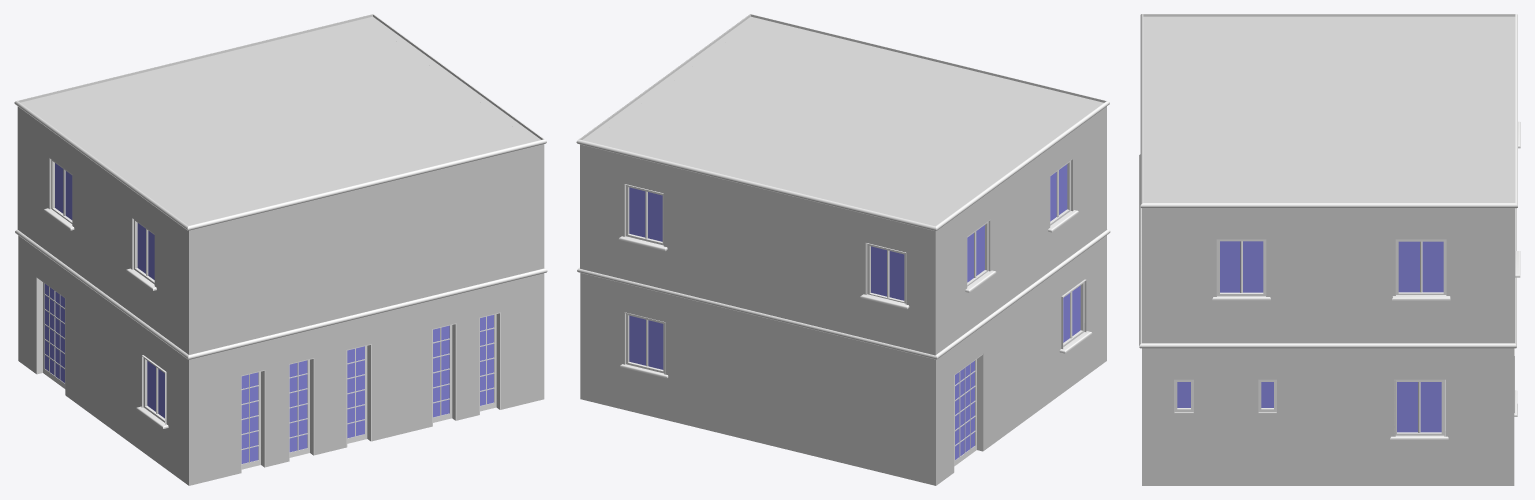
The model's file is HOME_CUBIC_FBX.FBX.
The picture shows the model from 3 angles, left to right: view 1: azimuth 30°, elevation 25°; view 2: azimuth 150°, elevation 25°; view 3: azimuth 270°, elevation 25°; orthographic projection. The views are drawn at different scales.
Parts seen in each view (by area): view 1: Rectangle27, Box11, Rectangle17, Rectangle57, Rectangle12, PivotDoor01, PivotDoor04, PivotDoor03, PivotDoor05, PivotDoor02, PivotDoor06, FixedWindow10 (+2 smaller); view 2: Rectangle27, Rectangle17, Box11, Rectangle57, PivotDoor01, Rectangle12, FixedWindow11, FixedWindow05, FixedWindow04, FixedWindow10, FixedWindow09, FixedWindow08; view 3: Box11, Rectangle27, Rectangle17, Rectangle57, Rectangle12, FixedWindow07, FixedWindow06, FixedWindow12, FixedWindow14, FixedWindow13.
Boxes of the visible parts, x1,y1,x2,y2 form: Rectangle27: (17, 16, 544, 354); Box11: (30, 22, 531, 222); Rectangle17: (18, 235, 544, 485); Rectangle57: (14, 14, 546, 230); Rectangle12: (15, 230, 547, 359); PivotDoor01: (36, 277, 65, 394); PivotDoor04: (346, 344, 371, 447); PivotDoor03: (289, 358, 314, 461); PivotDoor05: (432, 323, 456, 426); PivotDoor02: (241, 370, 265, 473); PivotDoor06: (479, 312, 500, 414); FixedWindow10: (141, 355, 166, 424); Rectangle27: (580, 16, 1106, 355); Rectangle17: (580, 235, 1106, 485); Box11: (592, 21, 1094, 222); Rectangle57: (576, 14, 1109, 230); PivotDoor01: (954, 354, 983, 472); Rectangle12: (577, 229, 1110, 359); FixedWindow11: (624, 312, 665, 374); FixedWindow05: (866, 243, 906, 304); FixedWindow04: (624, 184, 663, 245); FixedWindow10: (1061, 279, 1086, 348); FixedWindow09: (967, 219, 990, 287); FixedWindow08: (1050, 159, 1072, 227); Box11: (1152, 20, 1505, 201); Rectangle27: (1142, 16, 1515, 343); Rectangle17: (1142, 348, 1514, 485); Rectangle57: (1140, 14, 1517, 208); Rectangle12: (1139, 154, 1516, 348); FixedWindow07: (1216, 239, 1266, 296); FixedWindow06: (1395, 239, 1446, 295); FixedWindow12: (1394, 379, 1444, 436); FixedWindow14: (1174, 379, 1193, 413); FixedWindow13: (1258, 379, 1276, 413).
Size of what is drawn, in the model's own units: 861 by 585 by 715.
